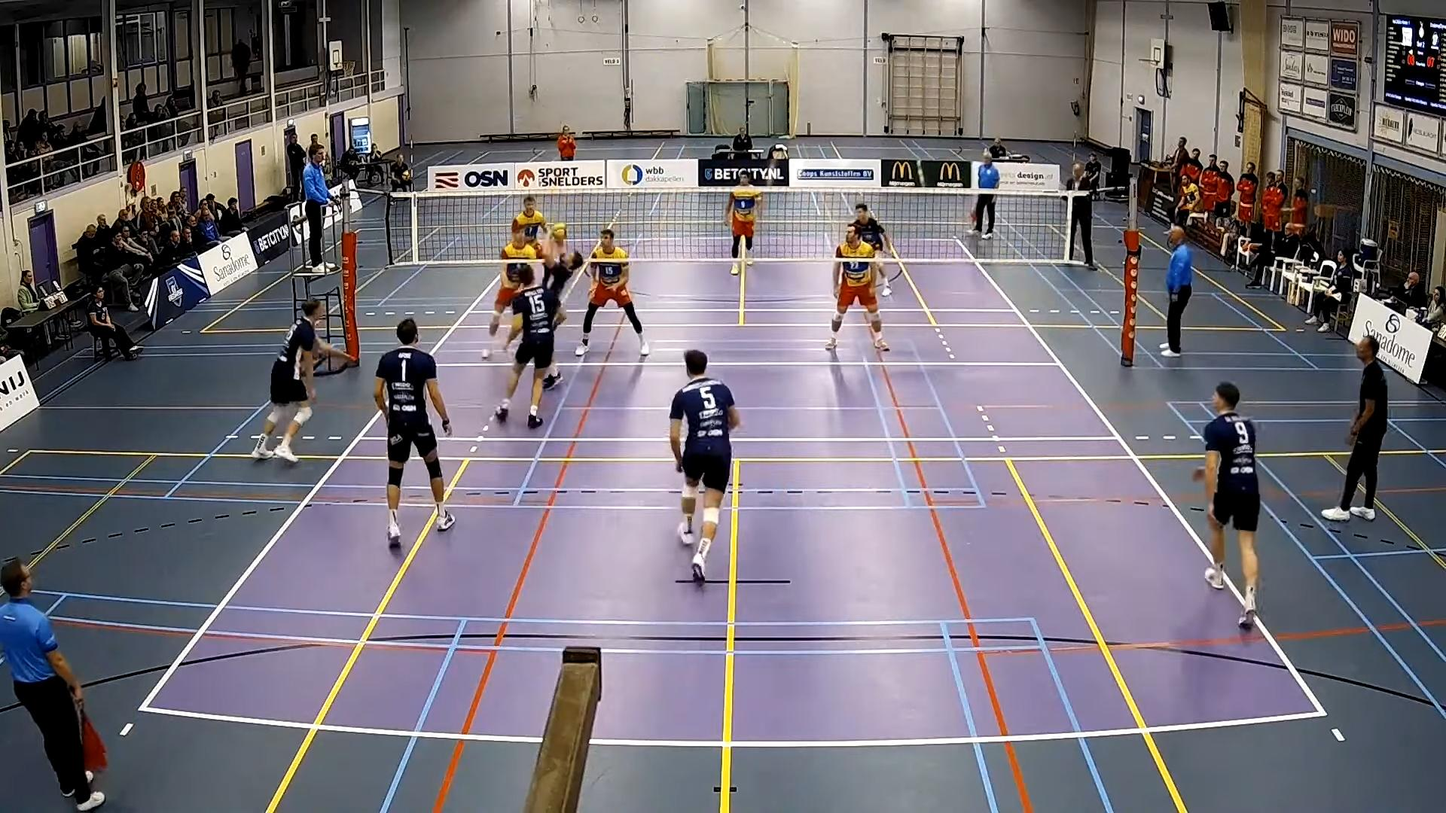Player: (374, 318, 454, 547), (1194, 382, 1260, 628), (670, 349, 739, 581), (252, 300, 325, 462), (495, 266, 566, 428), (575, 228, 649, 356), (825, 224, 888, 350), (482, 224, 537, 360), (725, 172, 761, 275), (850, 202, 896, 256), (512, 196, 545, 246)
Set: (533, 220, 581, 392)
ball: (553, 222, 568, 239)
